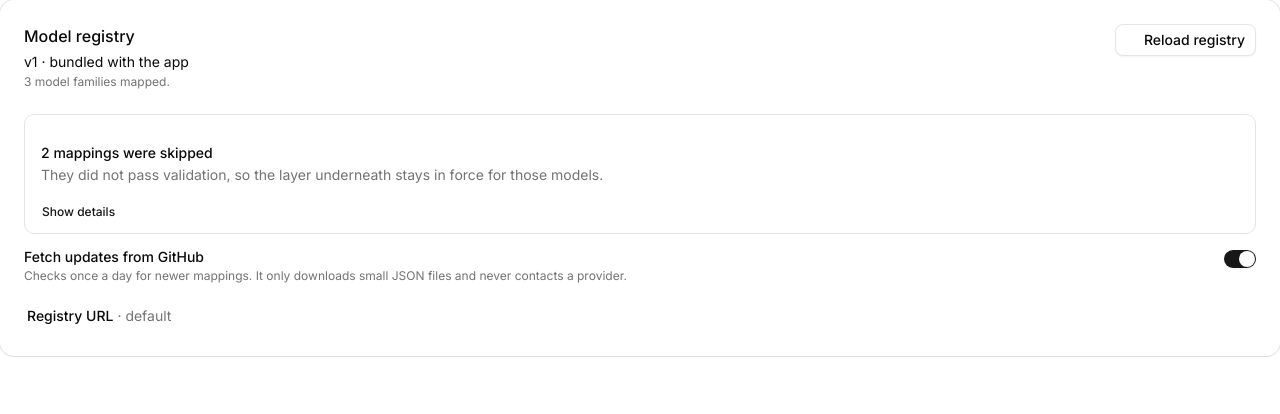
it: RegistryStatusCard › lists every skipped mapping when asked
This screenshot has width=1280, height=414.
Expected: the text "2 mappings were skipped" is shown, [41,144,213,161]
Expected: the text "endpoints.0.provider: not a provider" is not shown
Click the button "Show details".
click(87, 212)  # box [33,203,140,221]
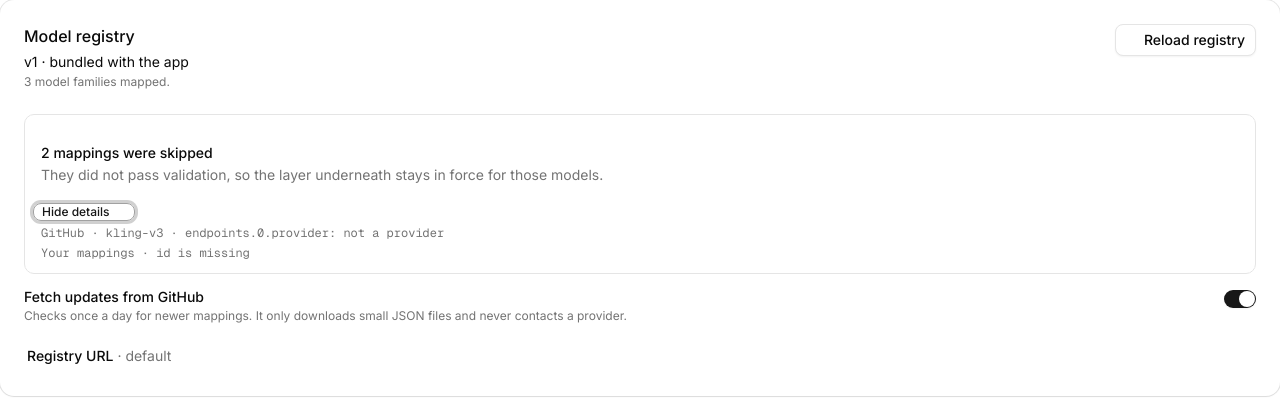
Expected: the list item "GitHub · kling-v3 · endpoints.0.provider: not a provider" is shown, [41,225,444,241]
Expected: the list item "Your mappings · id is missing" is shown, [41,245,250,261]
